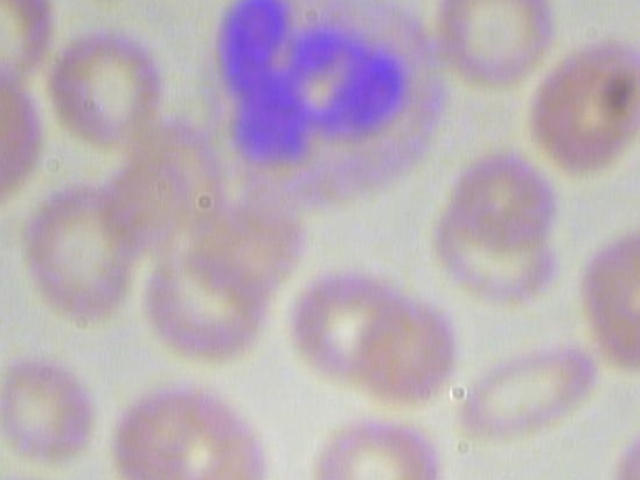RBC: (128, 224, 281, 367), (443, 328, 603, 454), (521, 28, 640, 182), (44, 18, 165, 154), (342, 298, 463, 413), (102, 382, 239, 480), (0, 350, 107, 465), (429, 0, 558, 91), (566, 224, 640, 379), (302, 413, 448, 480), (607, 409, 640, 480), (0, 469, 78, 480)
